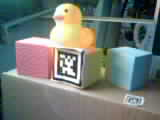duck: (46, 7, 114, 58)
